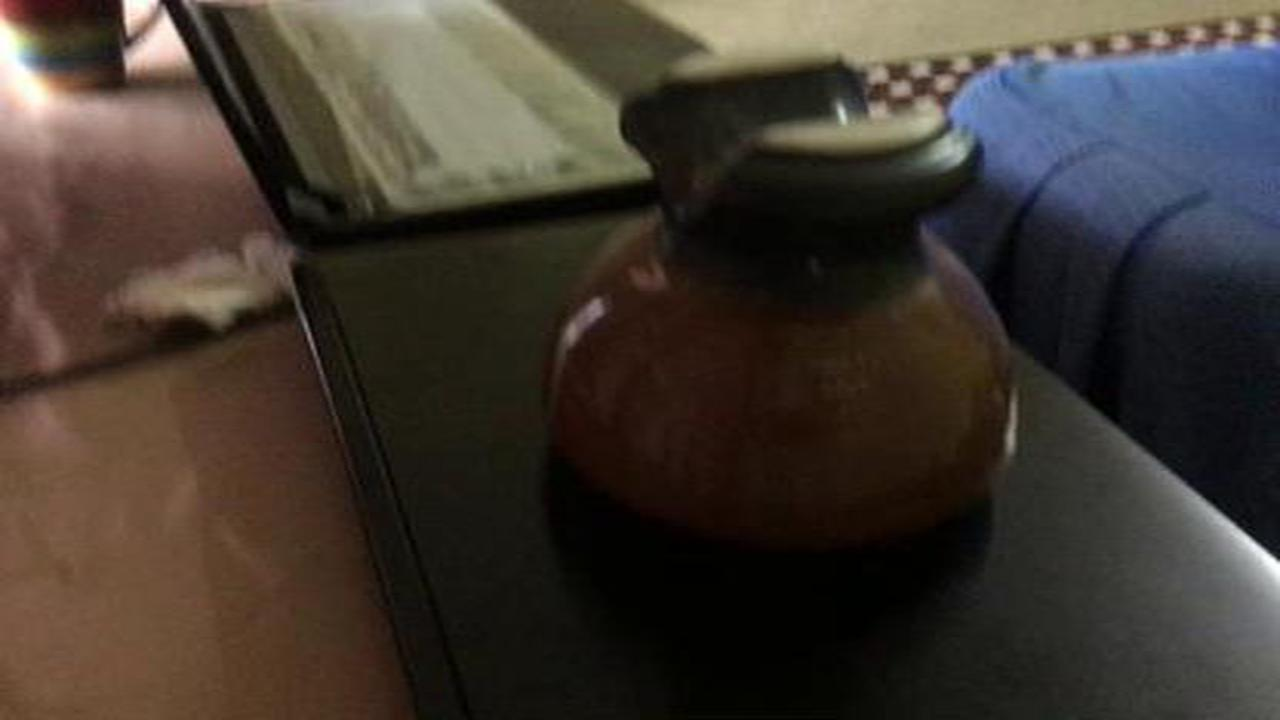insulator_pin: (527, 42, 1037, 584)
